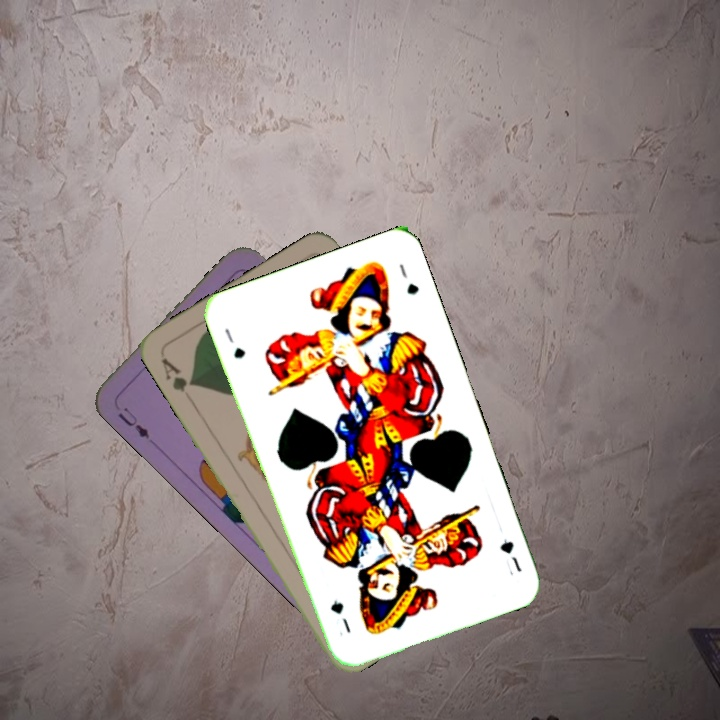EU: (114, 403, 152, 442)
GA: (157, 354, 197, 395)
GU: (496, 535, 525, 578), (220, 324, 248, 361)
